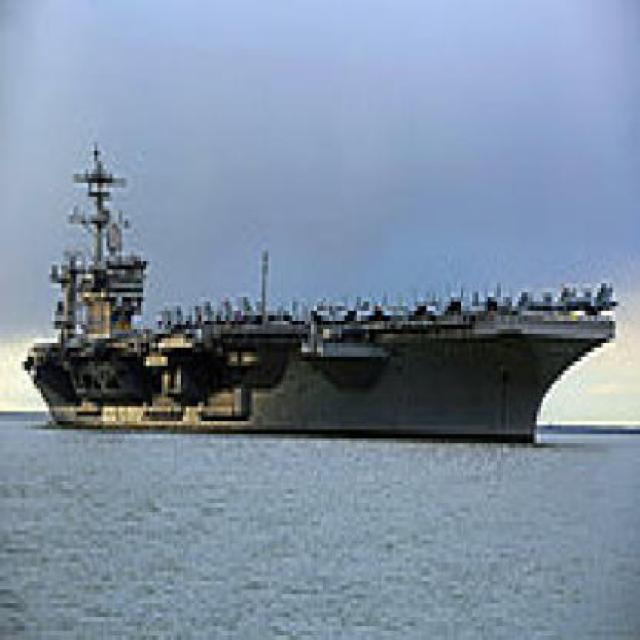warship2: (25, 106, 620, 454)
